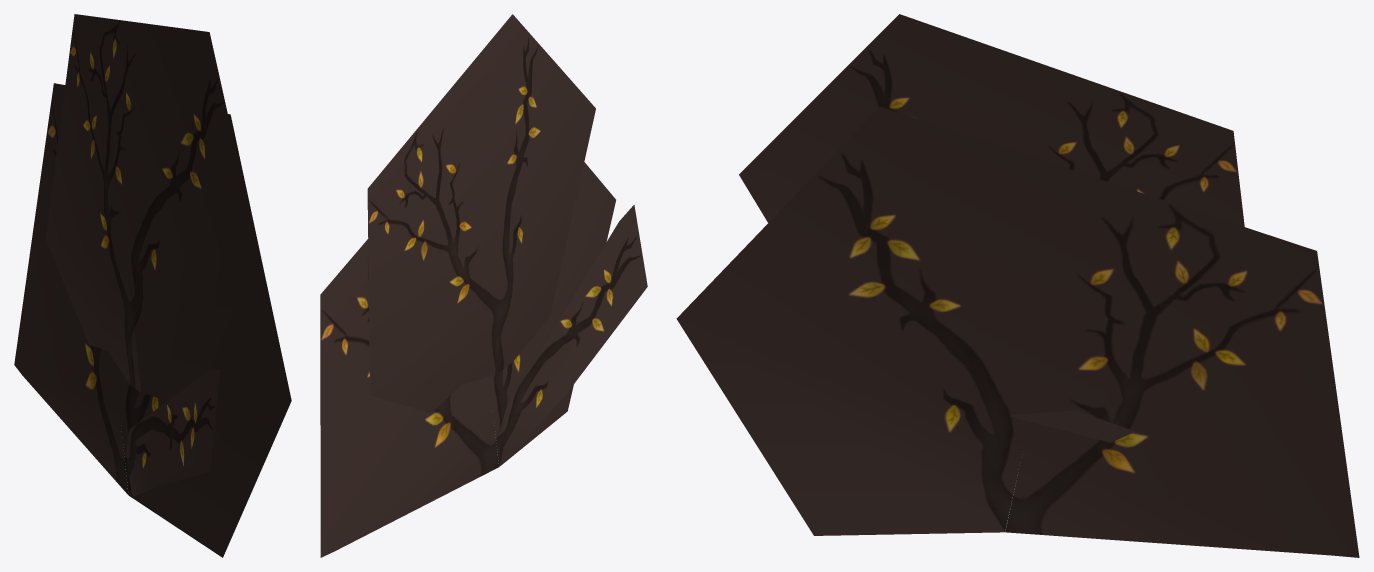
The model's file is bush6.fbx.
3 views of the same model, side by side, from view 1: azimuth 30°, elevation 25°; view 2: azimuth 150°, elevation 25°; view 3: azimuth 270°, elevation 25° (orthographic). The views are drawn at different scales.
Parts seen in each view (by area): view 1: bush6; view 2: bush6; view 3: bush6.
Boxes of the visible parts, x1,y1,x2,y2 form: bush6: (14, 14, 291, 557); bush6: (320, 14, 647, 557); bush6: (676, 14, 1359, 557).
Size of the model in its own units: 78.44 by 321 by 370.
